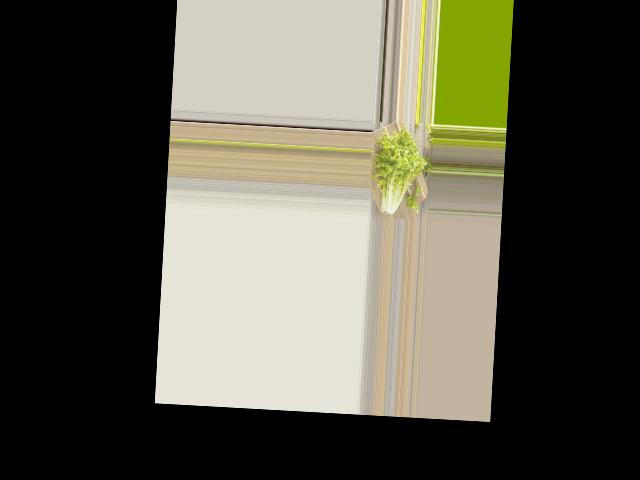lettuce: (370, 128, 427, 220)
